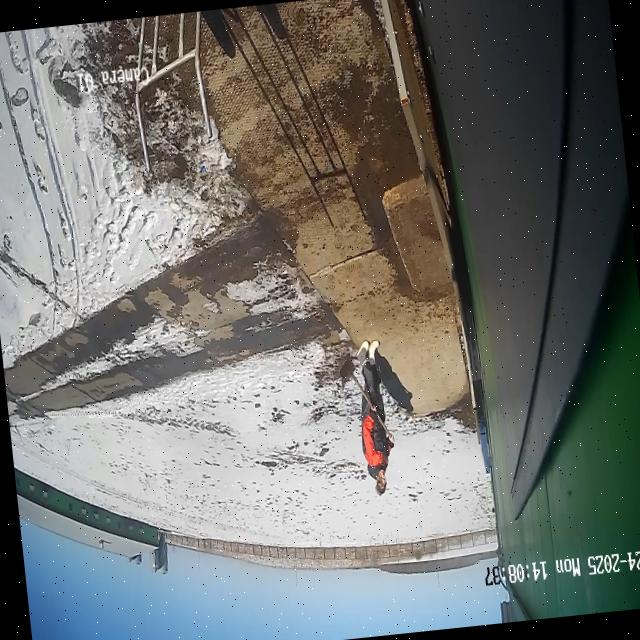Red uniform: (349, 335, 402, 498)
